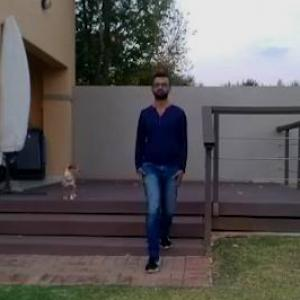follow: (144, 71, 190, 255)
